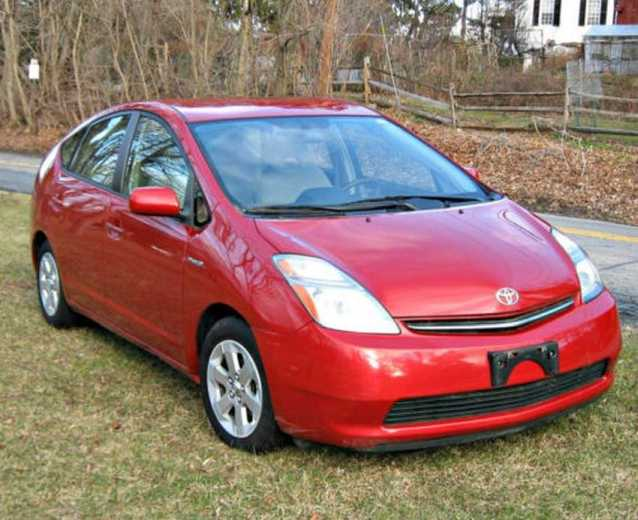Toyota Prius: (26, 94, 625, 457)
